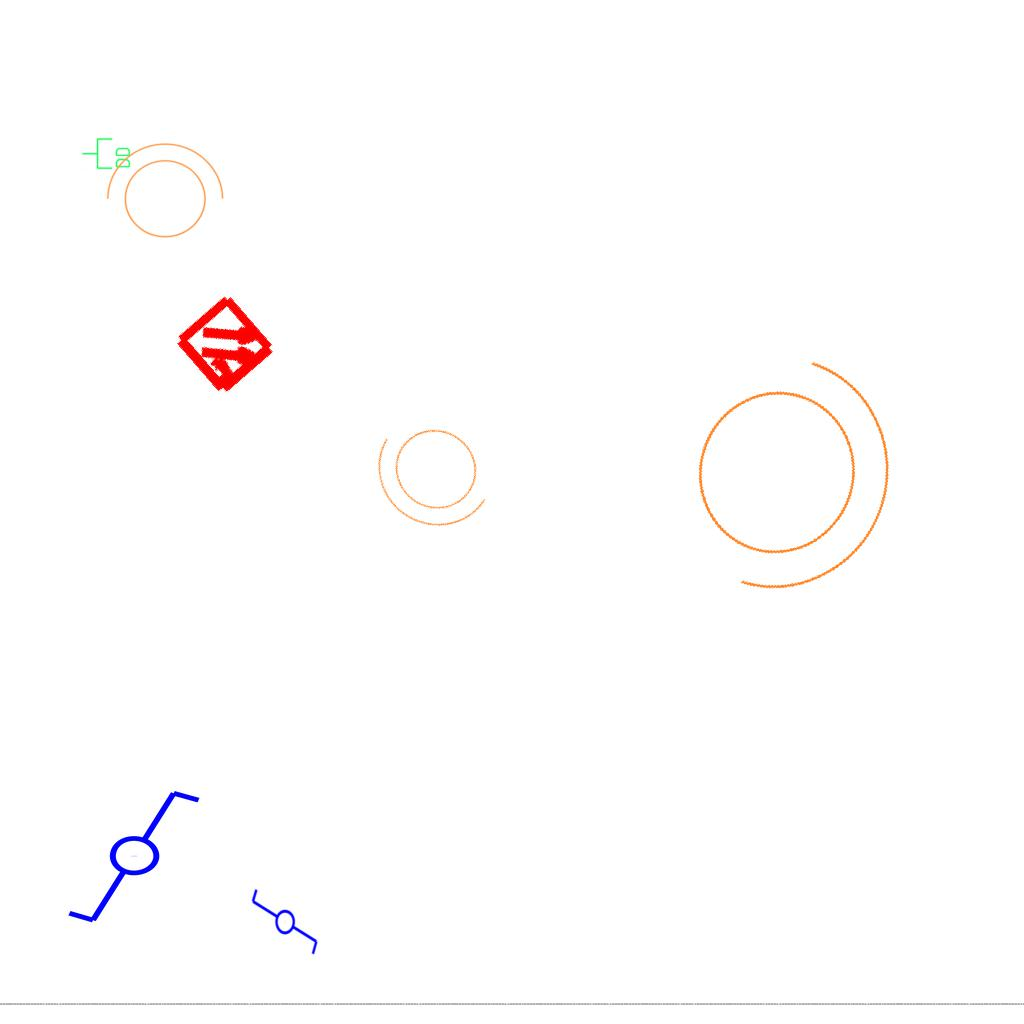Datenanschluss_zweifach: (81, 137, 132, 171)
OT_Multisensormelder_(Kombination_RMO_WMD): (146, 266, 307, 427)
Scheinwerfer_fuer_Alarmbeleuchtung: (640, 309, 936, 630), (350, 392, 522, 558), (96, 138, 228, 250)
Wechselschalter: (64, 786, 221, 930), (248, 887, 320, 965)
